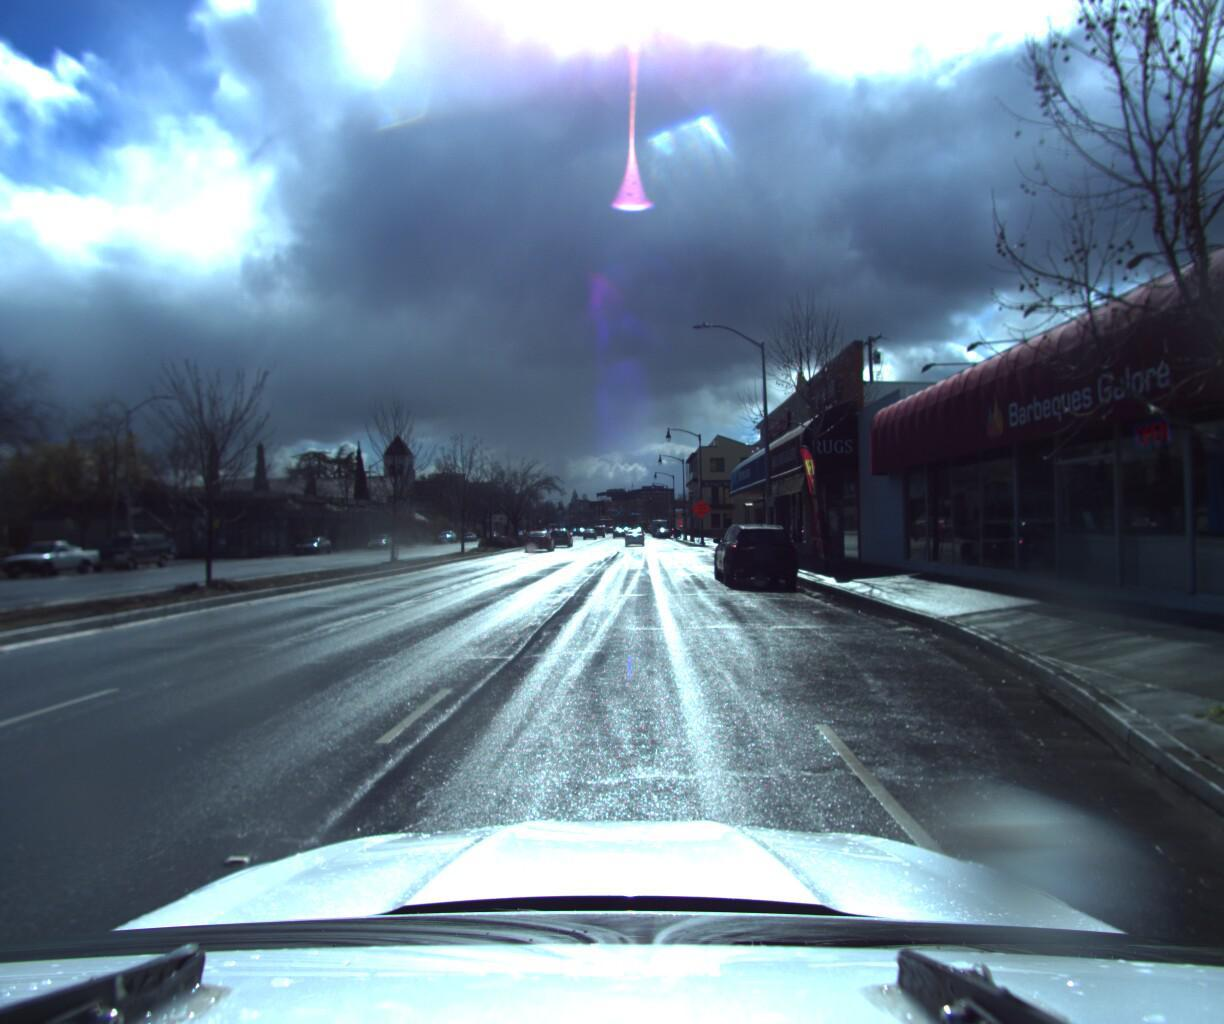car: (712, 521, 800, 588), (0, 540, 105, 582), (89, 537, 178, 575), (0, 543, 47, 581), (523, 529, 556, 552), (551, 529, 577, 548), (367, 534, 396, 550), (625, 524, 647, 543)
